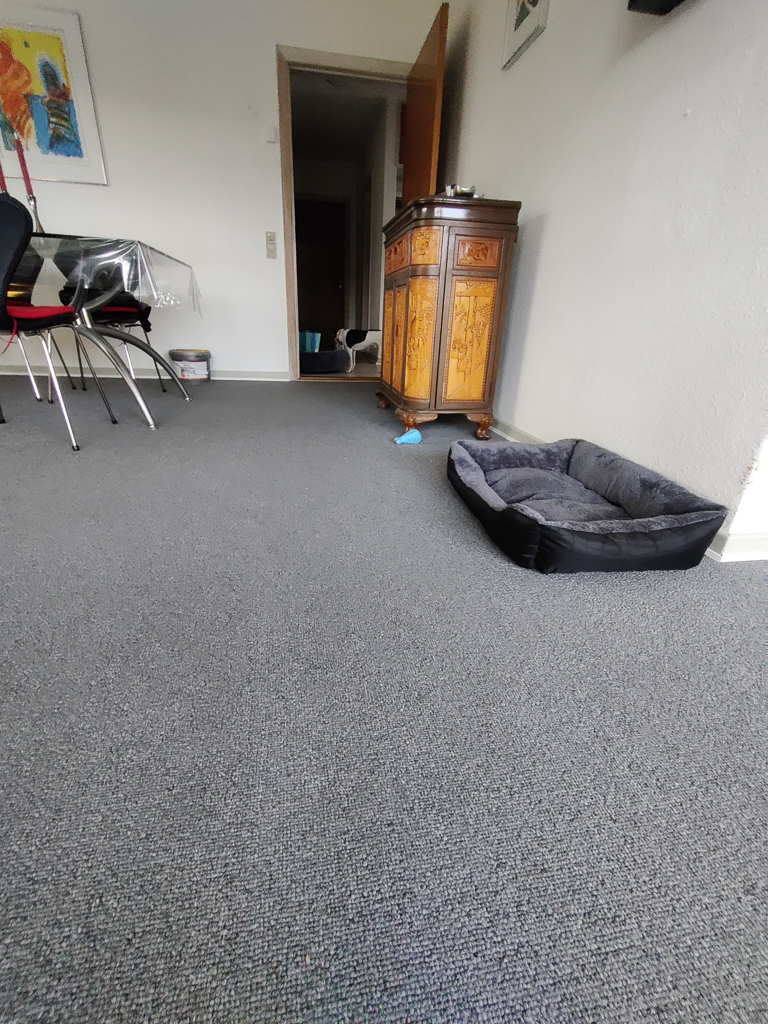Dog: (329, 323, 385, 373)
